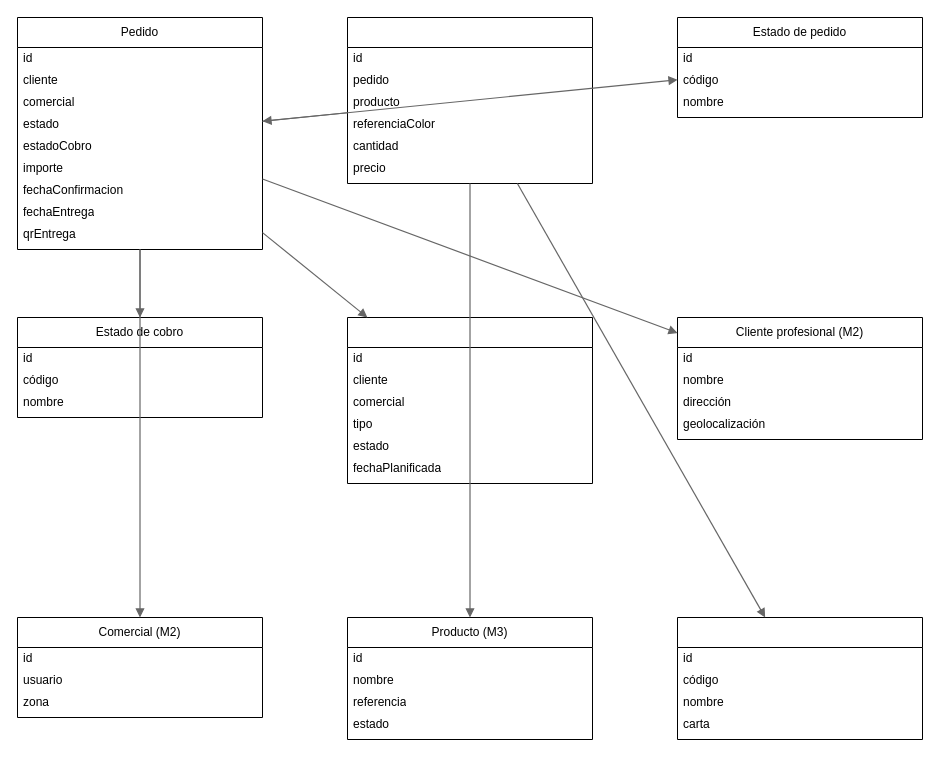
The diagram is 940 pixels wide and 757 high, and some of its shapes have lost their labels. Here are the shapes that lost their labels. From the top down, the box of each, then its label:
(346, 16, 592, 184): Línea de pedido
(346, 316, 592, 484): Visita comercial (M2)
(676, 616, 922, 740): Referencia de color (M3)
